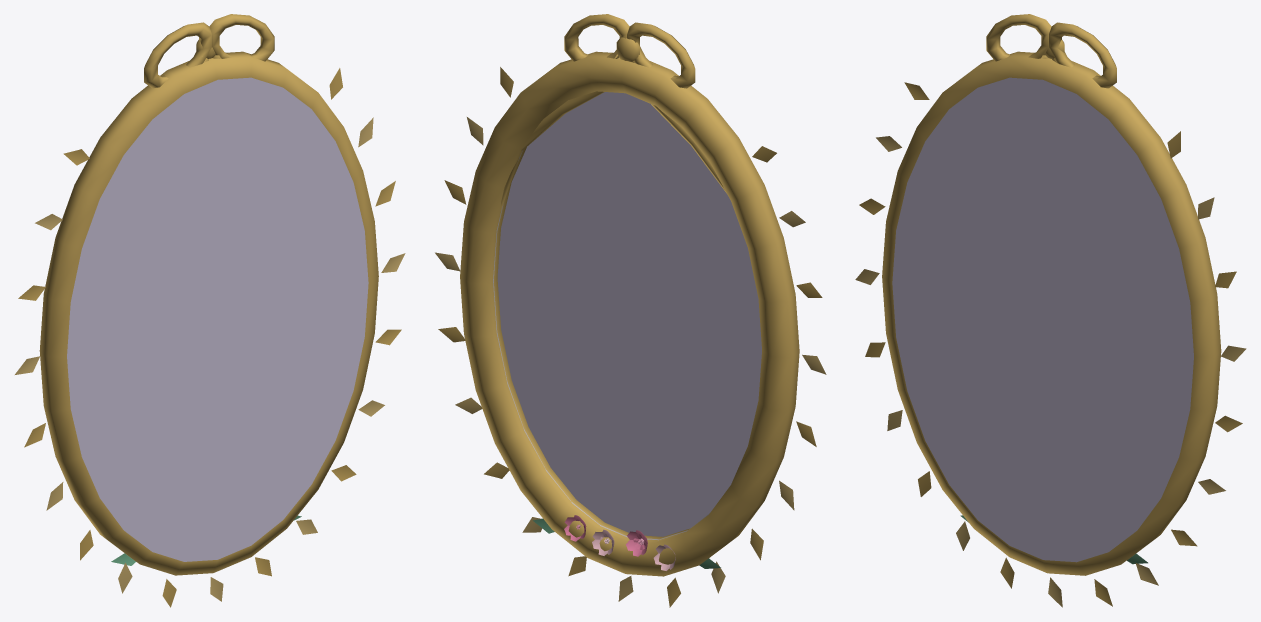
The model's file is wall_mirror_oval.glb.
3 renders of one model, left to right at view 1: azimuth 30°, elevation 25°; view 2: azimuth 150°, elevation 25°; view 3: azimuth 330°, elevation 25°, orthographic.
Visible parts, largest first — view 1: wall_mirror_oval; view 2: wall_mirror_oval; view 3: wall_mirror_oval.
Part boxes in pixels (x1,y1,x2,y2): wall_mirror_oval: [15, 14, 405, 607]; wall_mirror_oval: [435, 14, 826, 607]; wall_mirror_oval: [855, 14, 1246, 607].
Size of what is drawn, in the model's own units: 0.7 by 1 by 0.06.
